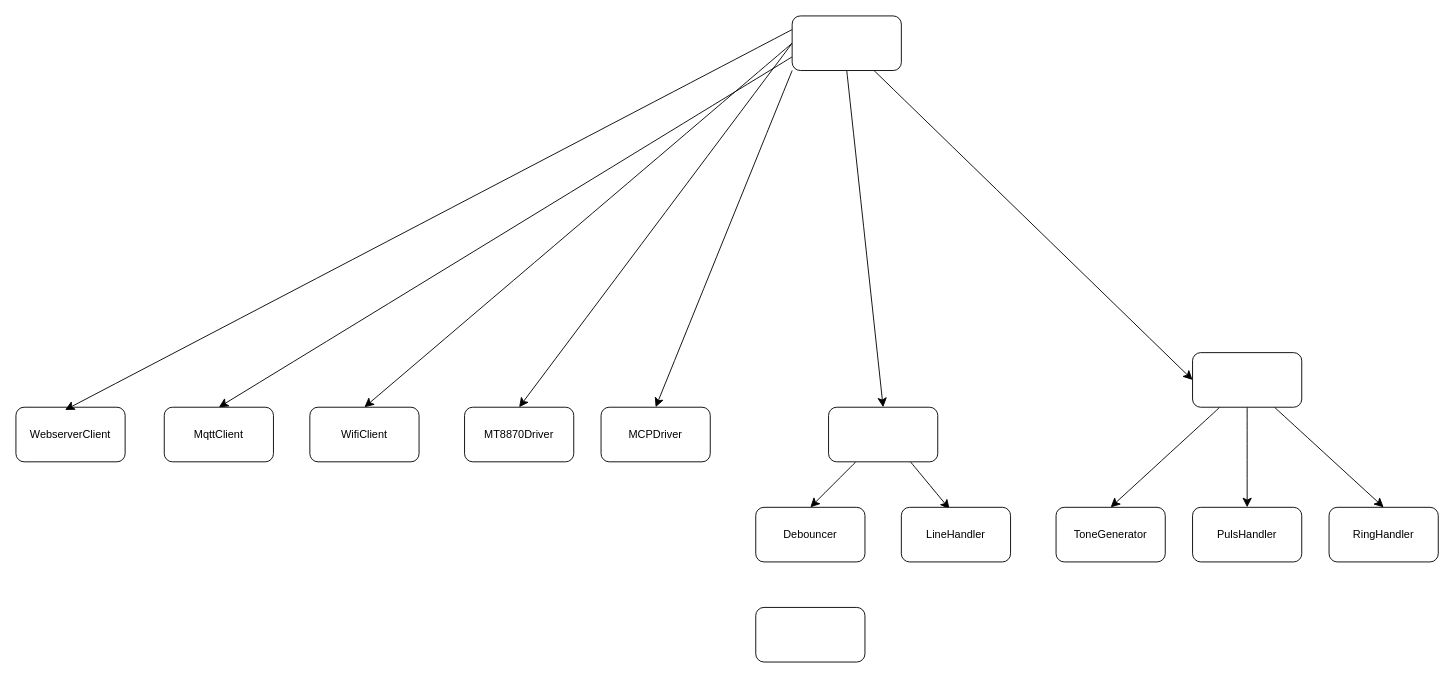
This 1454x678 diagram has some shape labels left out. Here are the shapes that lost their labels. From the top down, the box of each, then its label:
(791, 15, 901, 71): App
(1192, 352, 1302, 407): LineAction
(828, 406, 938, 462): LineManager
(755, 607, 865, 662): SHKService
